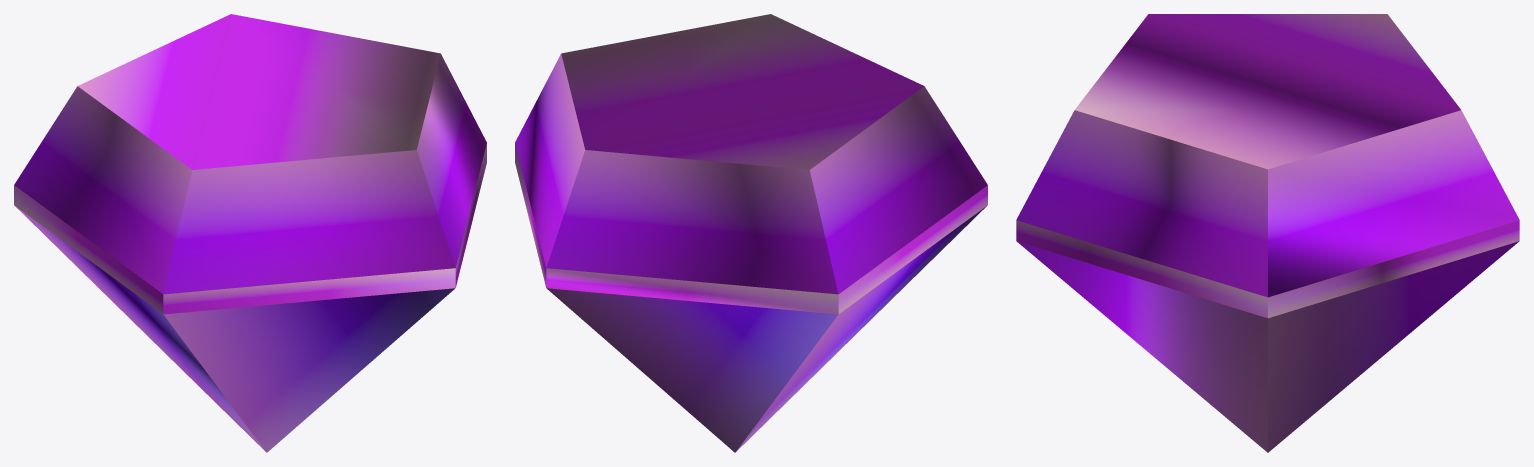
File: gem02.fbx
The picture shows the model from 3 angles, left to right: view 1: azimuth 30°, elevation 25°; view 2: azimuth 150°, elevation 25°; view 3: azimuth 270°, elevation 25°; orthographic projection. The views are drawn at different scales.
Visible parts, largest first — view 1: gem02; view 2: gem02; view 3: gem02.
Part boxes in pixels (bbox=[...]): gem02: bbox=[14, 14, 486, 452]; gem02: bbox=[515, 14, 987, 452]; gem02: bbox=[1016, 14, 1519, 452].
Bounding box in the file's own units: 81.59 × 69.9 × 85.79.
